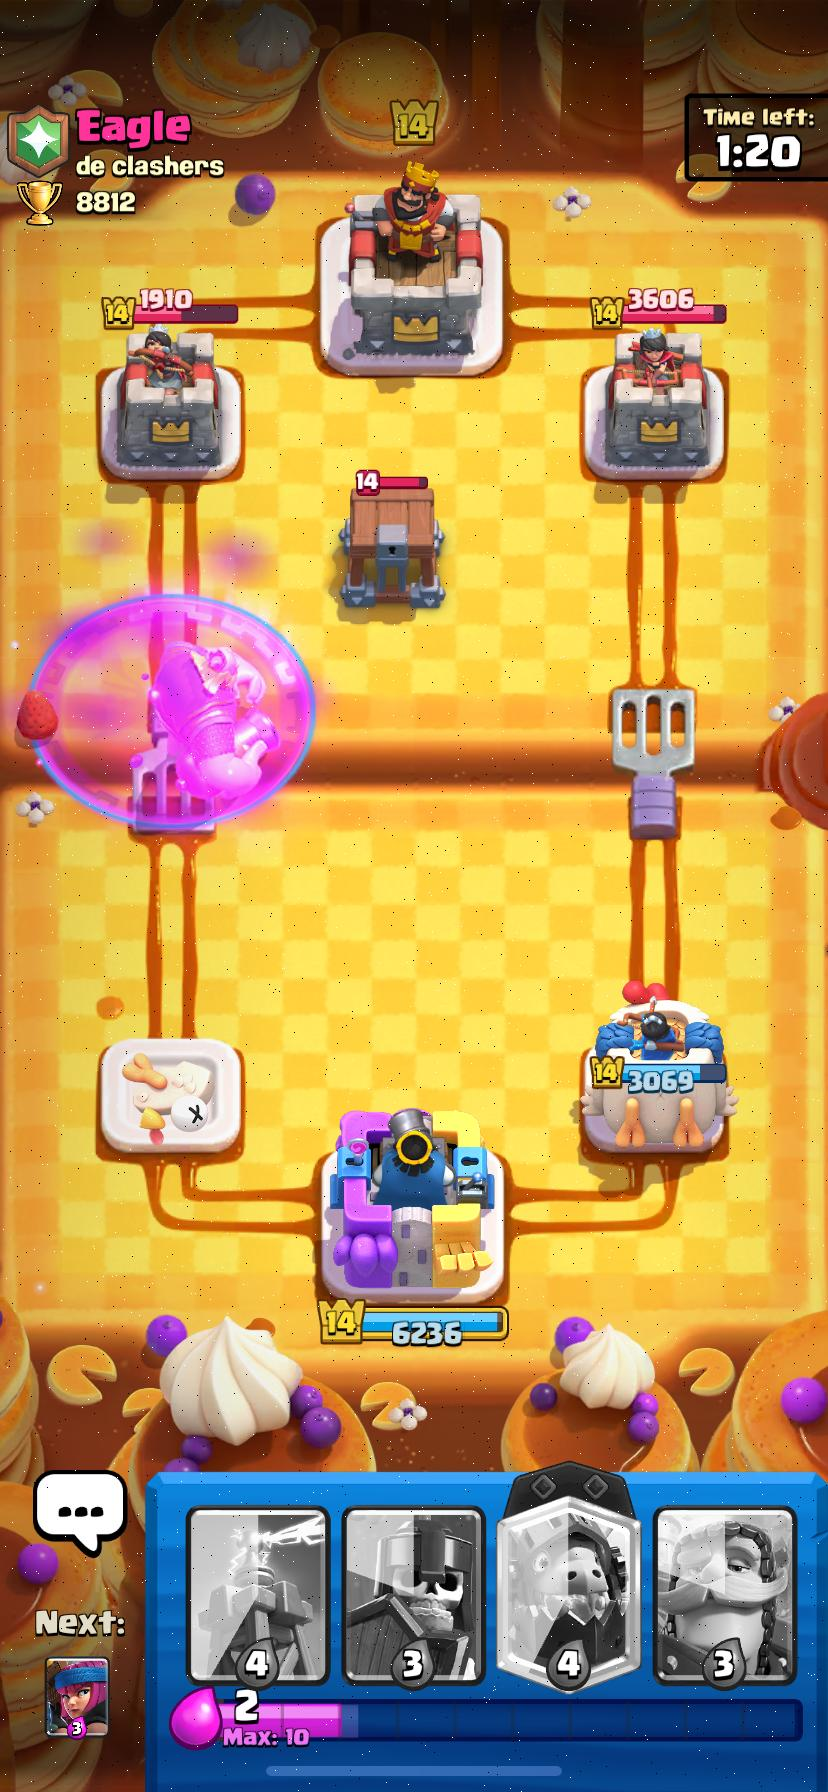EGoblinCage: (340, 470, 444, 607)
EKingTower: (328, 163, 502, 376)
EnemyPrincessTower: (101, 325, 240, 480), (587, 328, 723, 479)
OEVRoyalG: (148, 643, 279, 807)
OwnKingTower: (321, 1109, 503, 1307)
OwnPrincessTower: (581, 982, 737, 1151)
TowerDown: (99, 1037, 242, 1157)
